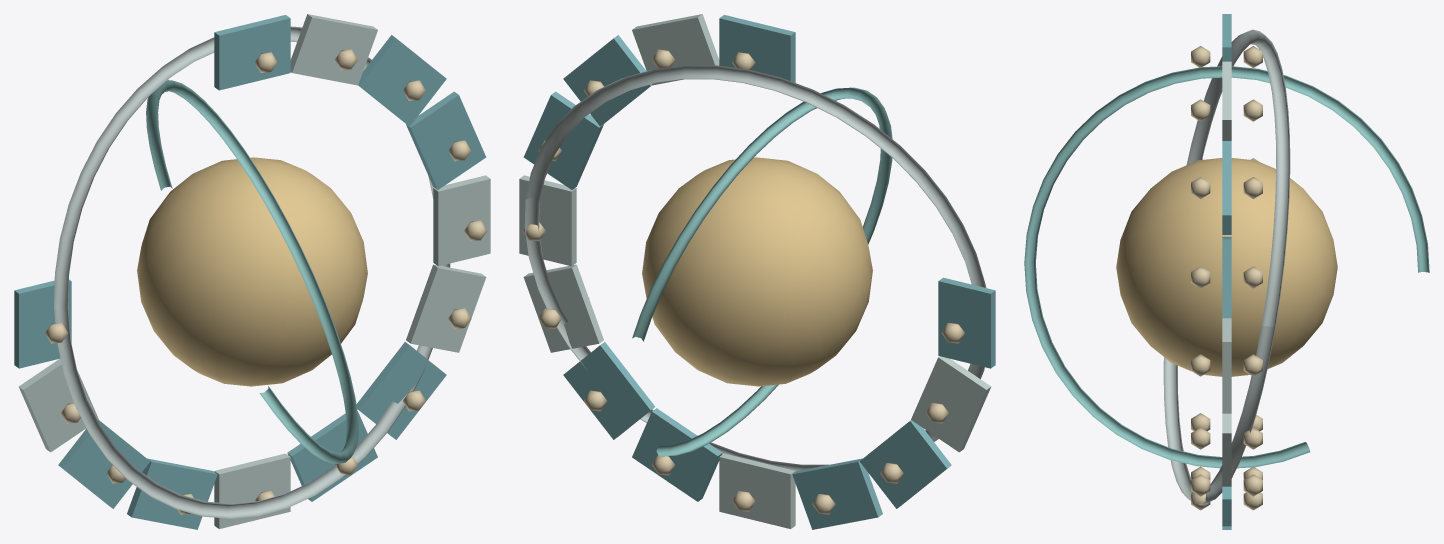
File: ART-33.glb
3 views of the same model, side by side, from view 1: azimuth 30°, elevation 25°; view 2: azimuth 150°, elevation 25°; view 3: azimuth 270°, elevation 25° (orthographic). The views are drawn at different scales.
Visible parts, largest first — view 1: world; view 2: world; view 3: world.
Boxes of the visible parts, <box> form: world: <box>14,14,490,529</box>; world: <box>519,14,995,529</box>; world: <box>1024,14,1429,529</box>.
Size of the model in its own units: 2 by 2 by 1.55.
